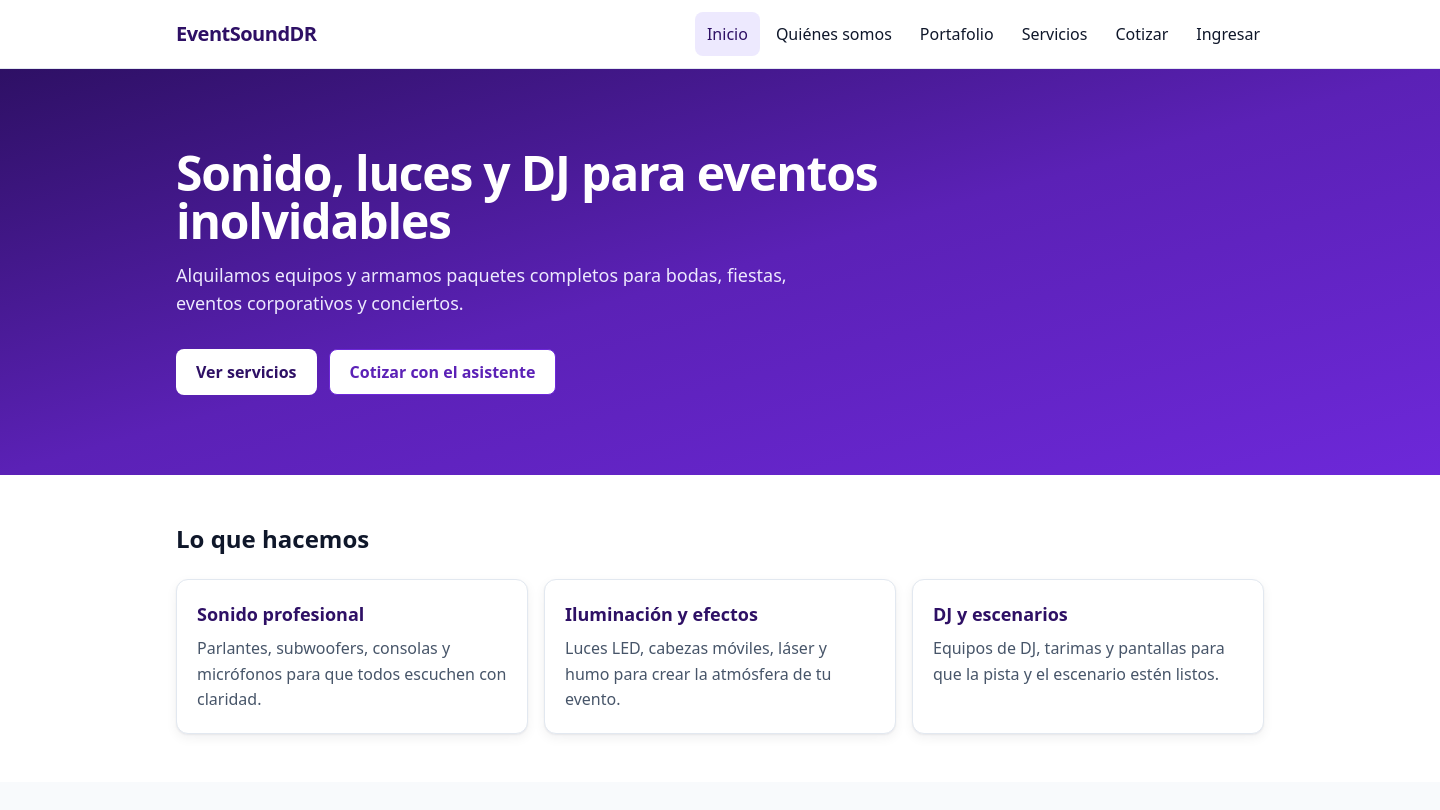
layout › navigates on click, updates the heading and moves focus to main
This screenshot has width=1440, height=810.
Click the link "Quiénes somos". click: (834,34)
box: [776,23,892,45]
(page scrolled)
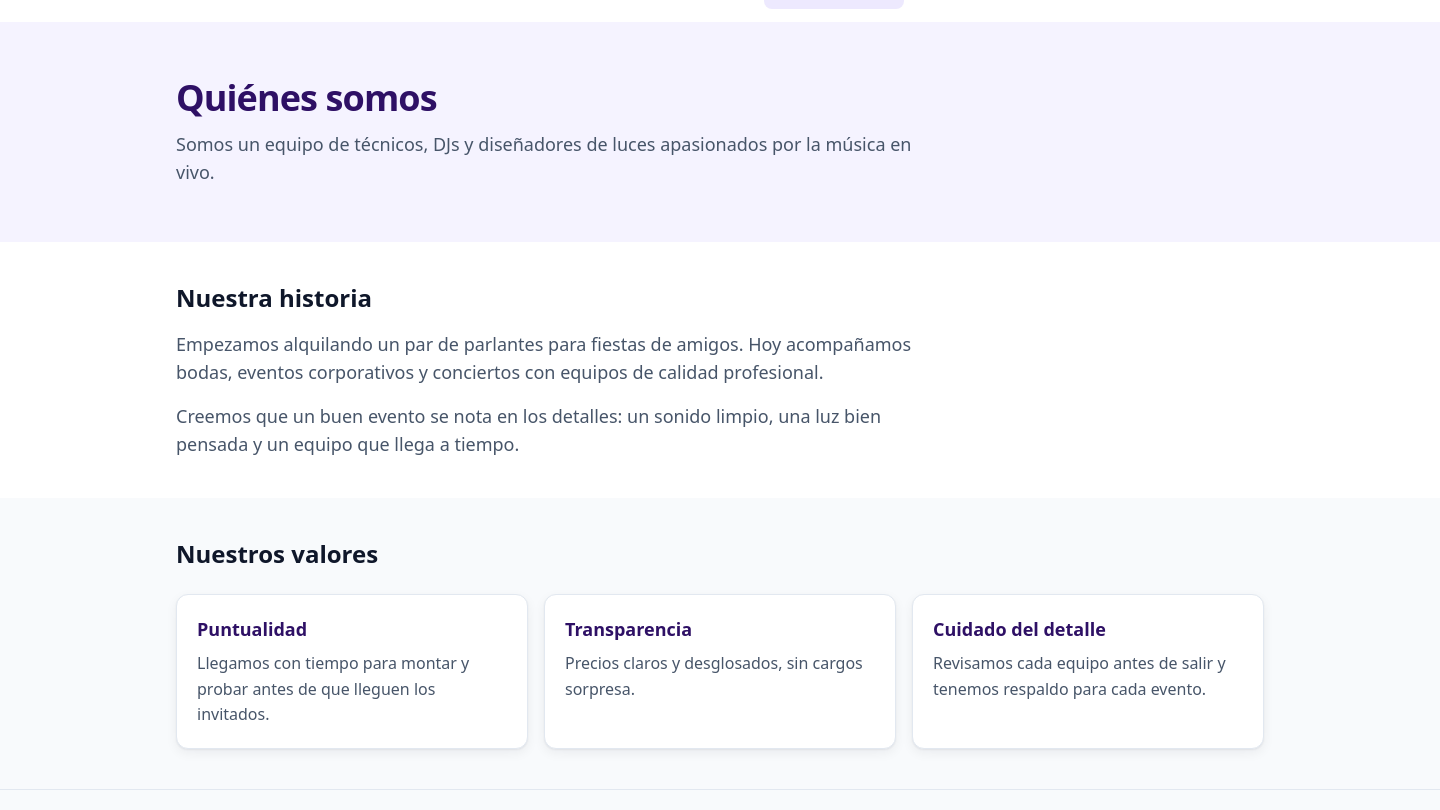
Check: the heading "Quiénes somos" is shown, box [176,73,437,122]
